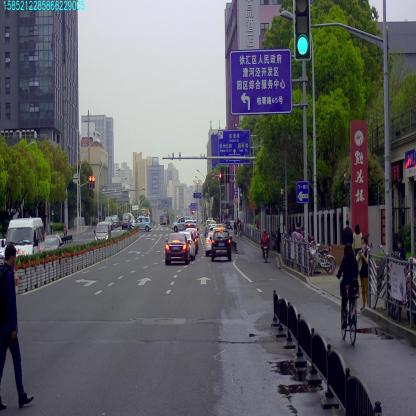traffic-light: (294, 0, 310, 58), (89, 176, 92, 188), (92, 176, 95, 188), (219, 173, 222, 185)
